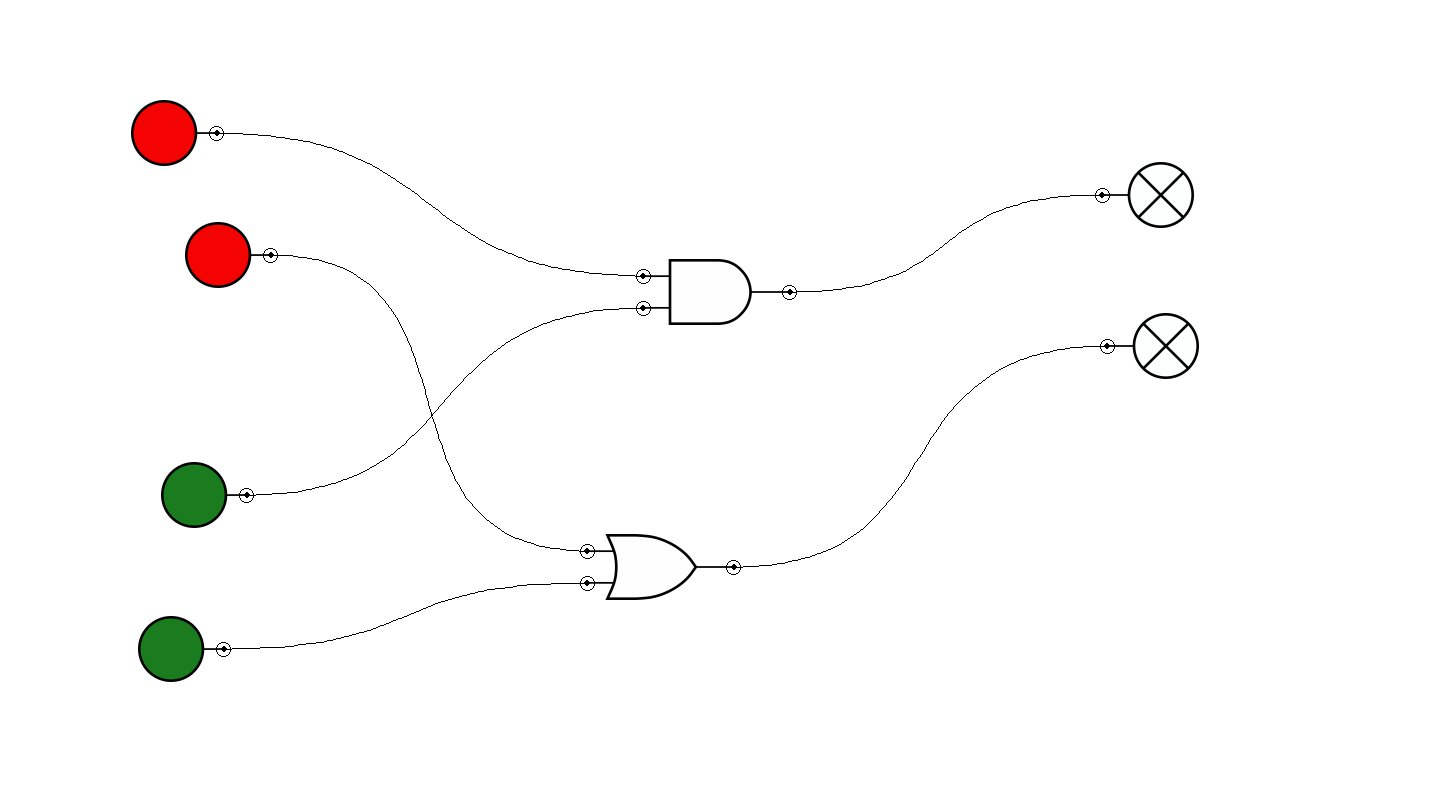and: (636, 259, 797, 325)
bulb: (1095, 162, 1194, 228), (1100, 313, 1199, 379)
or: (580, 534, 741, 600)
switch_False: (185, 222, 278, 288), (131, 100, 224, 166)
switch_True: (161, 462, 254, 528), (138, 616, 231, 682)
